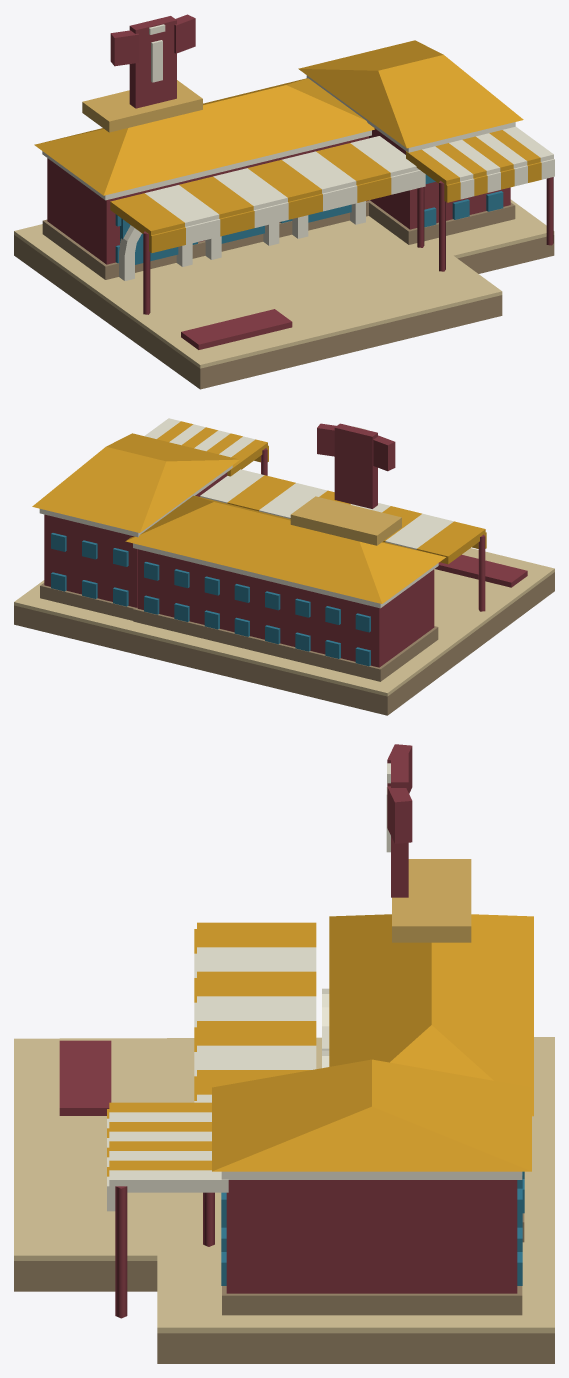
File: club-shop-lv1.glb
3 renders of one model, top to bottom at view 1: azimuth 30°, elevation 25°; view 2: azimuth 150°, elevation 25°; view 3: azimuth 270°, elevation 25°, orthographic. The views are drawn at different scales.
Visible parts, largest first — view 1: foundation_sand, market_row_roof_ochre, retail_corner_roof_ochre, foundation_stoneDark, awnings_ochre, awnings_white, market_row_burgundy, jersey_sign_burgundy, awning_valance_ochre, awning_valance_white, sign_plinth_gold, market_row_stoneDark (+10 smaller); view 2: market_row_roof_ochre, market_row_burgundy, foundation_sand, retail_corner_roof_ochre, foundation_stoneDark, retail_corner_burgundy, awnings_ochre, awnings_white, jersey_sign_burgundy, market_row_stoneDark, market_row_windows_glass, sign_plinth_gold (+6 smaller); view 3: foundation_sand, retail_corner_burgundy, retail_corner_roof_ochre, market_row_roof_ochre, foundation_stoneDark, awnings_white, awnings_ochre, retail_corner_stoneDark, sign_plinth_gold, carpet_burgundy, jersey_sign_burgundy, retail_corner_white (+2 smaller).
Part boxes in pixels (x1,y1,x2,y2): foundation_sand: [14, 199, 554, 368]; market_row_roof_ochre: [34, 78, 374, 195]; retail_corner_roof_ochre: [298, 40, 523, 148]; foundation_stoneDark: [14, 235, 554, 389]; awnings_ochre: [110, 130, 540, 239]; awnings_white: [145, 126, 553, 226]; market_row_burgundy: [47, 136, 368, 264]; jersey_sign_burgundy: [110, 14, 195, 108]; awning_valance_ochre: [149, 162, 541, 252]; awning_valance_white: [185, 159, 554, 244]; sign_plinth_gold: [82, 80, 202, 132]; market_row_stoneDark: [42, 201, 368, 279]; market_row_roof_ochre: [125, 495, 445, 603]; market_row_burgundy: [137, 549, 434, 667]; foundation_sand: [14, 548, 554, 696]; retail_corner_roof_ochre: [32, 433, 239, 532]; foundation_stoneDark: [14, 572, 554, 715]; retail_corner_burgundy: [44, 472, 227, 607]; awnings_ochre: [157, 421, 485, 564]; awnings_white: [144, 418, 453, 549]; jersey_sign_burgundy: [317, 423, 395, 508]; market_row_stoneDark: [133, 609, 438, 681]; market_row_windows_glass: [144, 562, 370, 666]; sign_plinth_gold: [290, 496, 401, 545]; foundation_sand: [14, 1037, 554, 1333]; retail_corner_burgundy: [226, 1180, 517, 1293]; retail_corner_roof_ochre: [212, 1059, 531, 1171]; market_row_roof_ochre: [329, 914, 533, 1116]; foundation_stoneDark: [14, 1261, 554, 1363]; awnings_white: [109, 947, 316, 1192]; awnings_ochre: [109, 922, 316, 1170]; retail_corner_stoneDark: [222, 1286, 522, 1315]; sign_plinth_gold: [392, 859, 471, 942]; carpet_burgundy: [59, 1040, 111, 1115]; jersey_sign_burgundy: [387, 744, 412, 897]; retail_corner_white: [221, 1171, 522, 1179].
Size of the model in its own units: 1 by 0.5896 by 0.7861.
